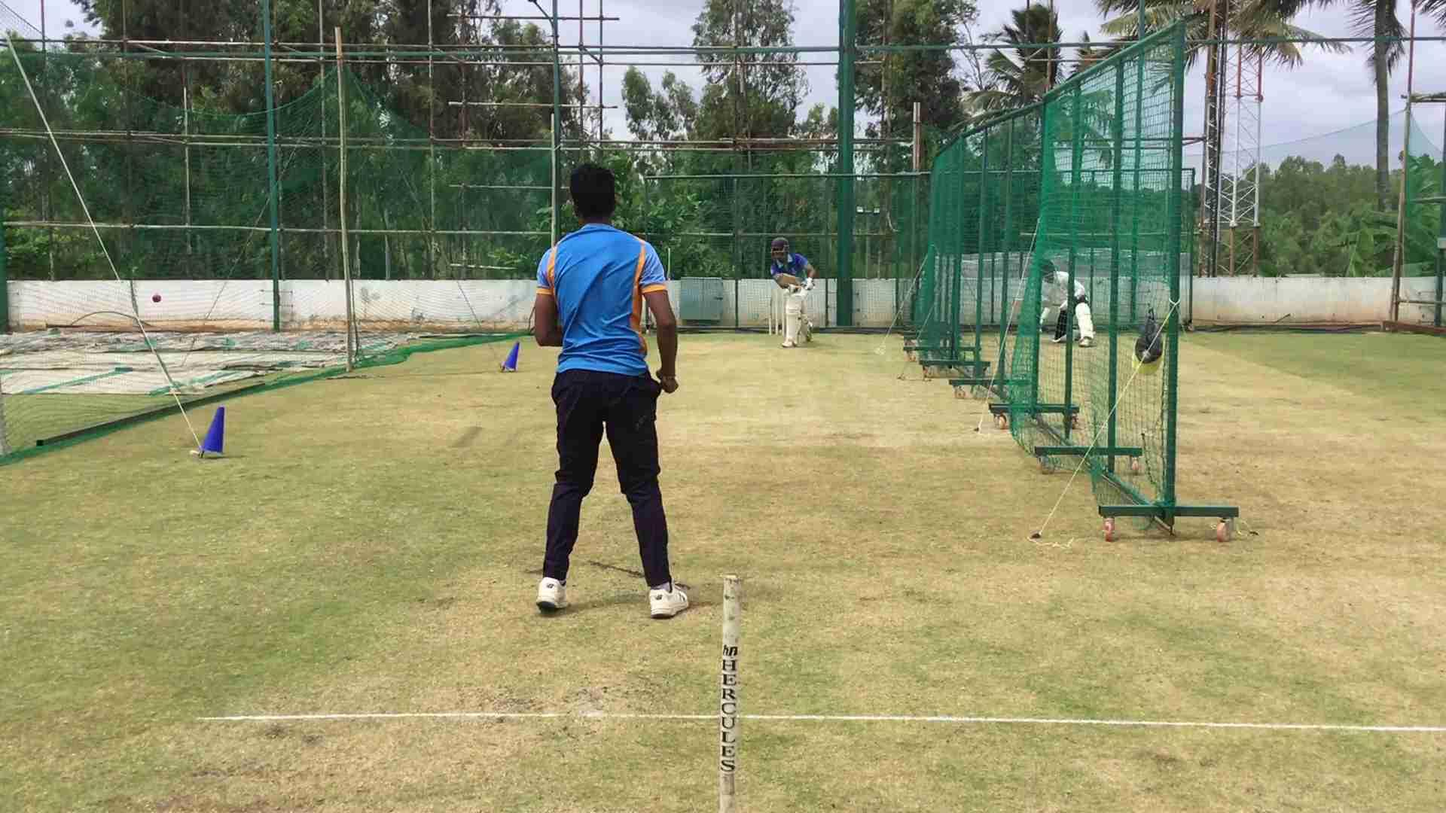batsman: (761, 230, 825, 356)
